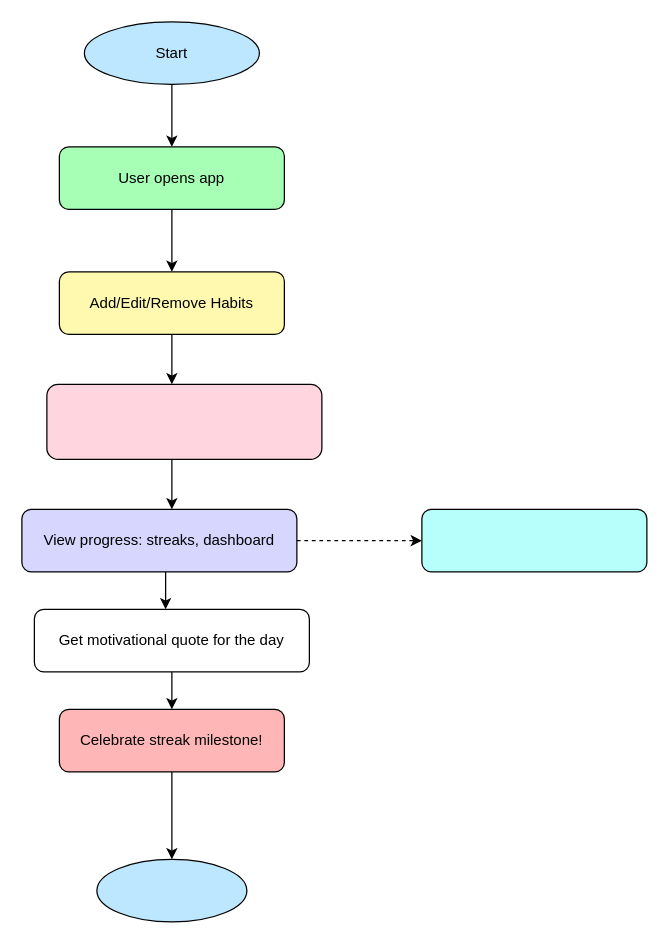
This 669x944 diagram has some shape labels left out. The shapes that lost their labels are listed below. From the top down, each one's centre as x and y in pixels, then its label:
point 184,421: Daily Tracker: Mark habits for today
point 534,540: (Optional) Change theme
point 171,890: End
